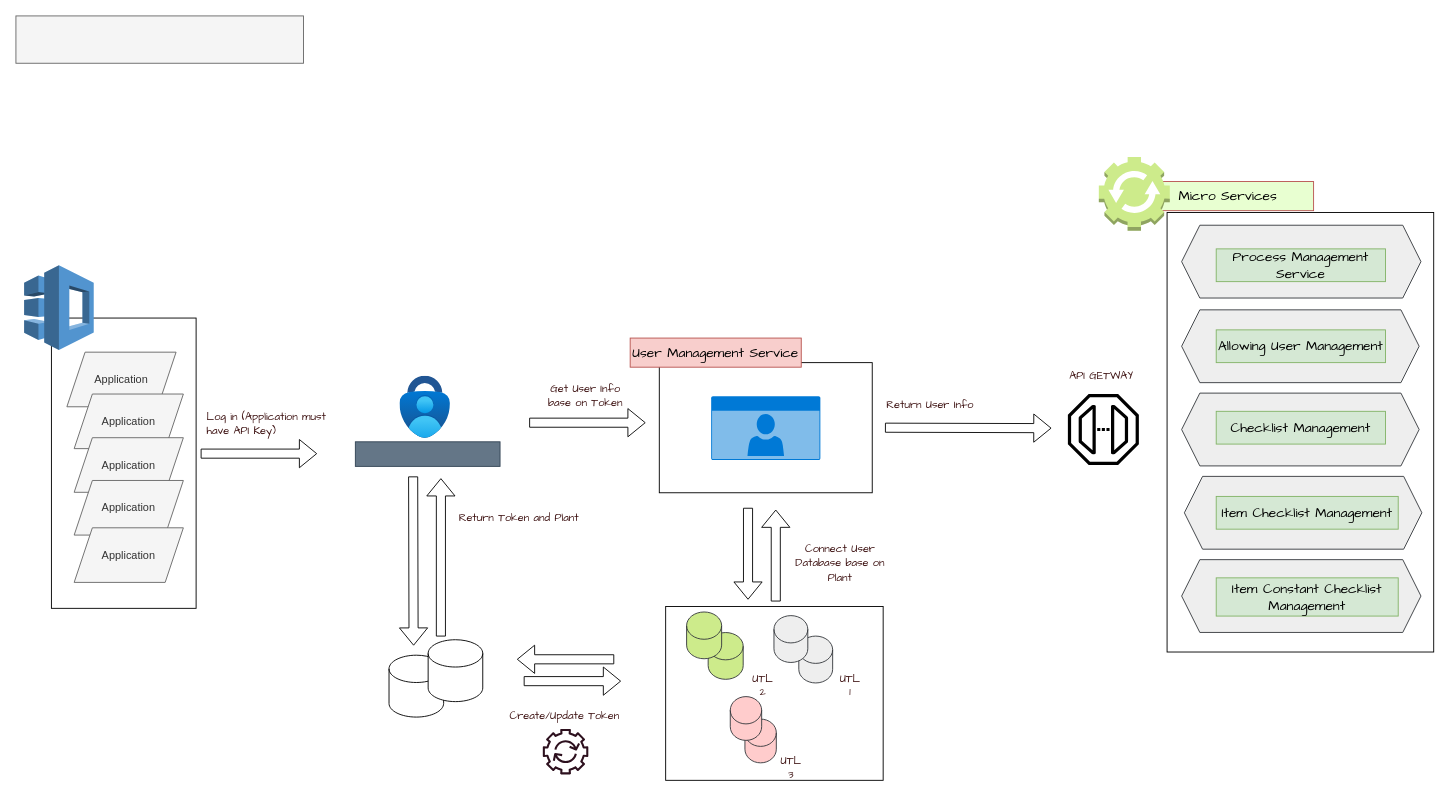
Some shapes in this 1450 by 799 pixel diagram are drawn without their labels. Each missing label, with the box of its shape:
Authentication System: (354, 441, 500, 466)
System Architecture: (15, 15, 303, 63)
User: (711, 396, 820, 460)
